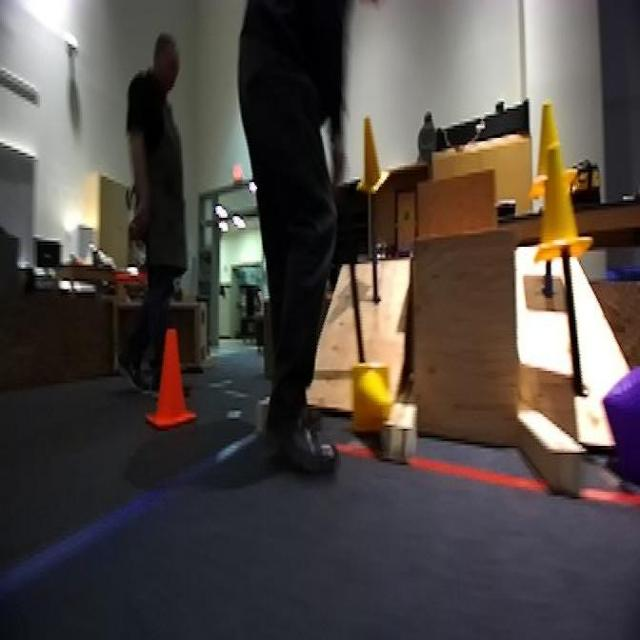frc_cone: (535, 136, 583, 267), (546, 99, 580, 182), (348, 368, 393, 430), (359, 115, 388, 178)
frc_cube: (602, 354, 640, 492)
